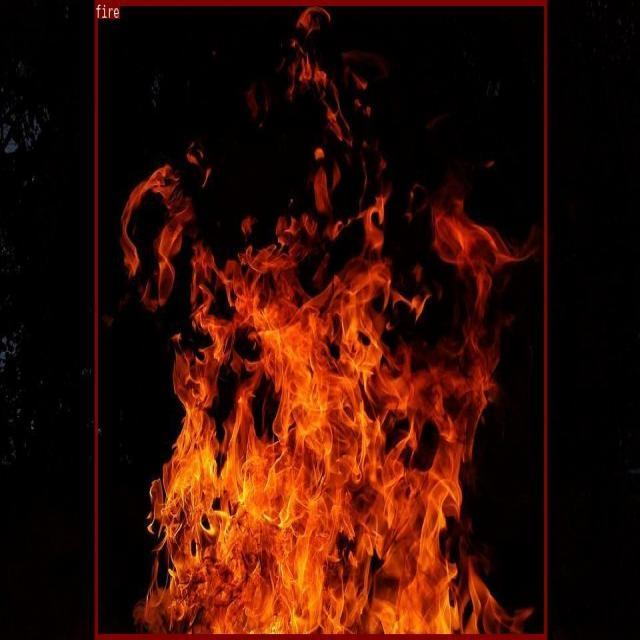fire: (94, 0, 546, 638)
